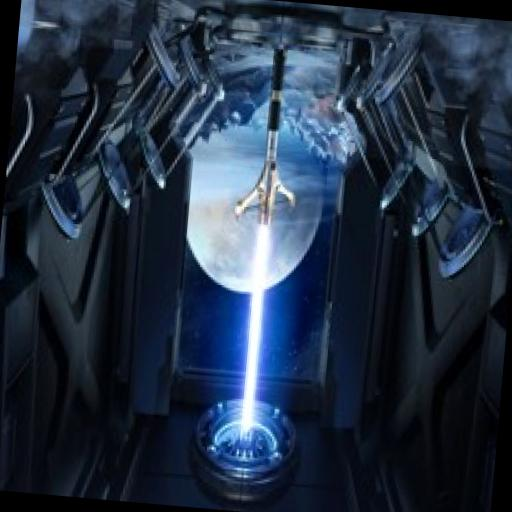lightsaber: (215, 45, 306, 434)
